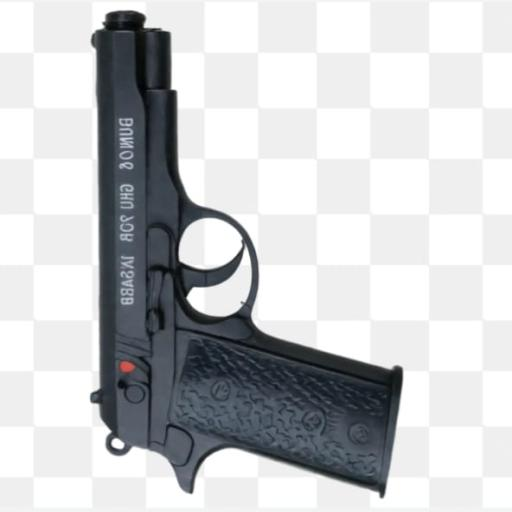Gun: (92, 11, 400, 495)
